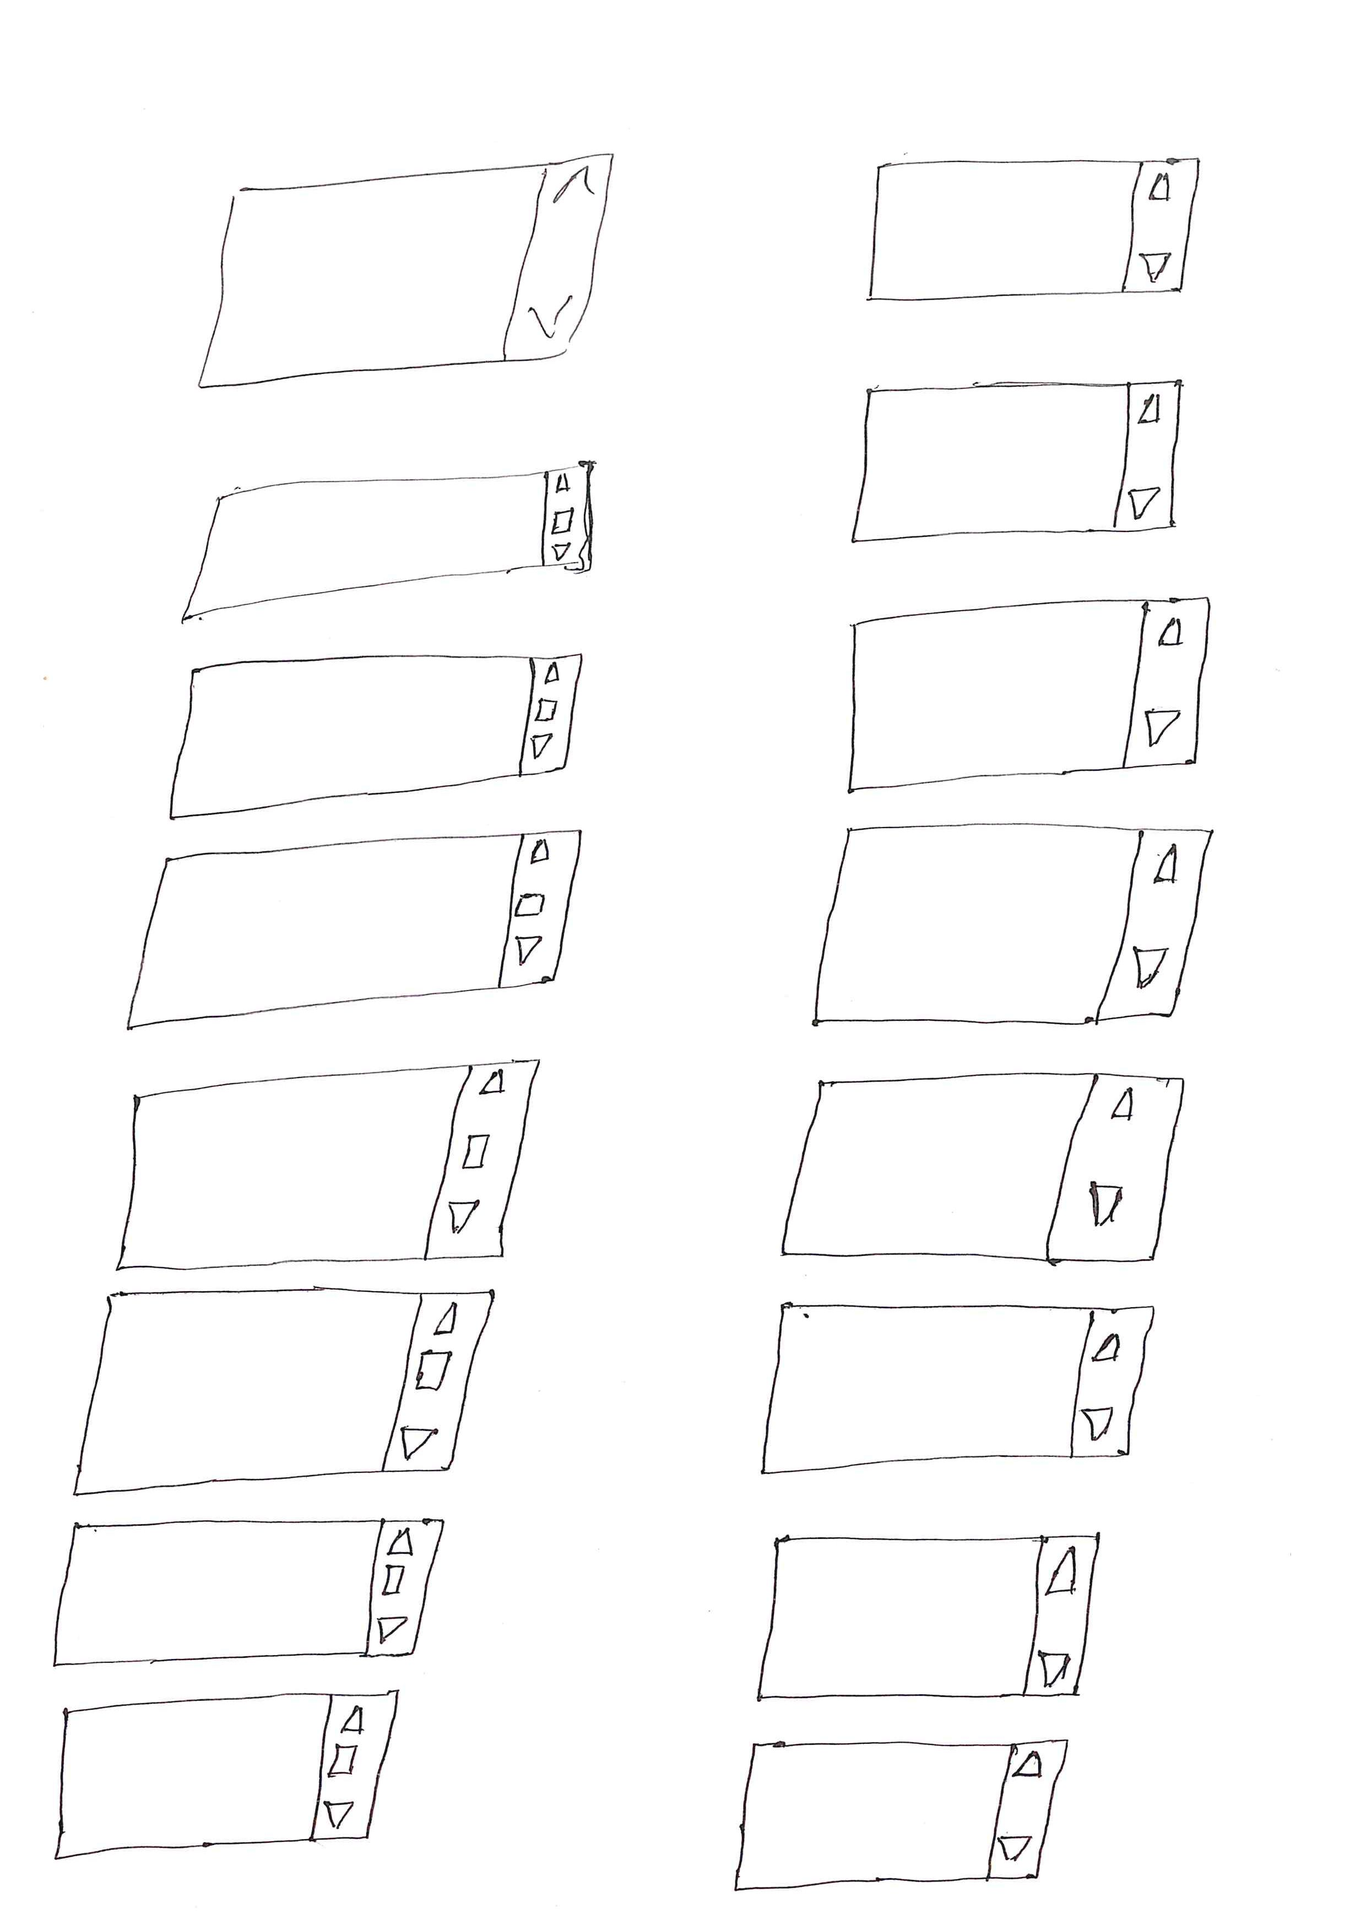Textarea: (194, 151, 616, 389), (126, 828, 584, 1032), (114, 1059, 544, 1273), (72, 1286, 497, 1496), (810, 821, 1217, 1028), (781, 1070, 1189, 1266), (846, 596, 1212, 794), (167, 651, 582, 824), (758, 1301, 1158, 1477), (179, 458, 597, 622), (50, 1516, 446, 1669), (52, 1689, 402, 1862), (754, 1533, 1103, 1700), (850, 379, 1183, 543), (732, 1737, 1069, 1893), (866, 157, 1202, 303)
